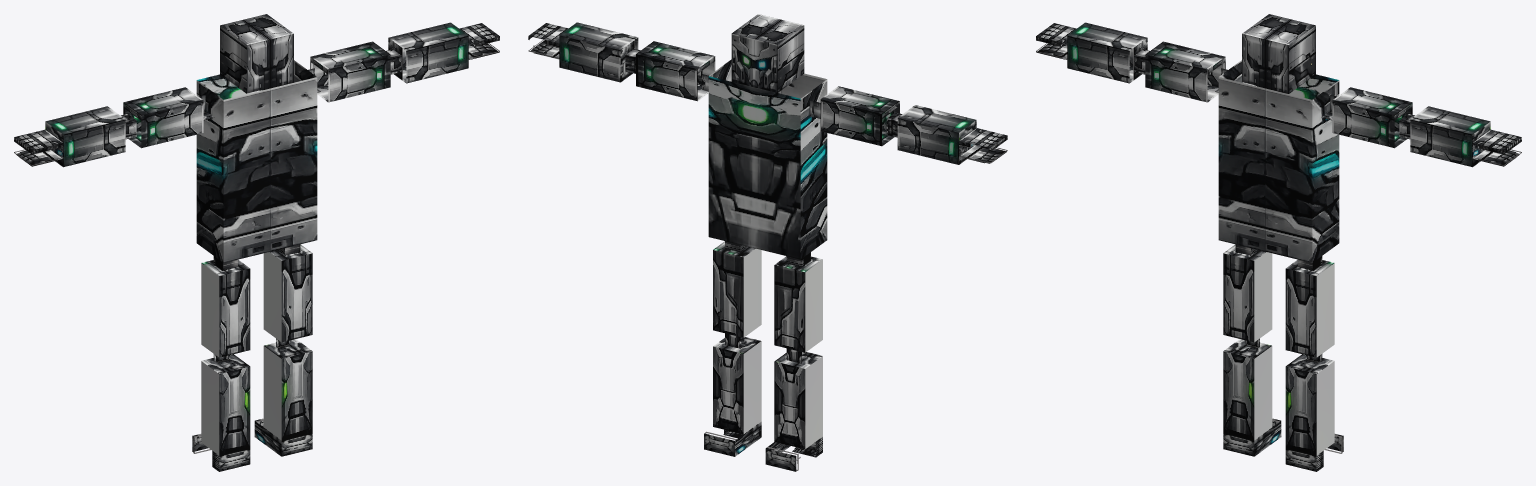
The model's file is MainBody.fbx.
The picture shows the model from 3 angles, left to right: view 1: azimuth 30°, elevation 25°; view 2: azimuth 150°, elevation 25°; view 3: azimuth 330°, elevation 25°; orthographic projection.
Visible parts, largest first — view 1: 立方体.005, 立方体.001, 立方体.006, 立方体, 立方体.002, 立方体.014, 立方体.004, 立方体.007; view 2: 立方体.005, 立方体.001, 立方体.006, 立方体, 立方体.014, 立方体.002, 立方体.004, 立方体.007; view 3: 立方体.005, 立方体.001, 立方体.006, 立方体, 立方体.002, 立方体.014, 立方体.004, 立方体.007.
Part boxes in pixels (bbox=[...]): 立方体.005: bbox=[196, 60, 317, 262]; 立方体.001: bbox=[201, 244, 312, 455]; 立方体.006: bbox=[45, 22, 468, 167]; 立方体: bbox=[220, 14, 293, 93]; 立方体.002: bbox=[14, 23, 499, 166]; 立方体.014: bbox=[192, 418, 312, 471]; 立方体.004: bbox=[121, 49, 401, 139]; 立方体.007: bbox=[213, 244, 300, 367]; 立方体.005: bbox=[708, 59, 827, 259]; 立方体.001: bbox=[713, 241, 822, 449]; 立方体.006: bbox=[559, 22, 976, 164]; 立方体: bbox=[731, 14, 804, 92]; 立方体.014: bbox=[704, 421, 822, 471]; 立方体.002: bbox=[528, 23, 1007, 163]; 立方体.004: bbox=[625, 48, 902, 137]; 立方体.007: bbox=[725, 241, 810, 363]; 立方体.005: bbox=[1218, 60, 1339, 262]; 立方体.001: bbox=[1223, 244, 1334, 455]; 立方体.006: bbox=[1067, 22, 1490, 167]; 立方体: bbox=[1242, 14, 1315, 93]; 立方体.002: bbox=[1036, 23, 1521, 166]; 立方体.014: bbox=[1223, 418, 1343, 471]; 立方体.004: bbox=[1134, 49, 1414, 139]; 立方体.007: bbox=[1235, 244, 1322, 367].
Bounding box in the file's own units: 3000 × 2600 × 350.
Materials: 1 (1 with a texture image).
